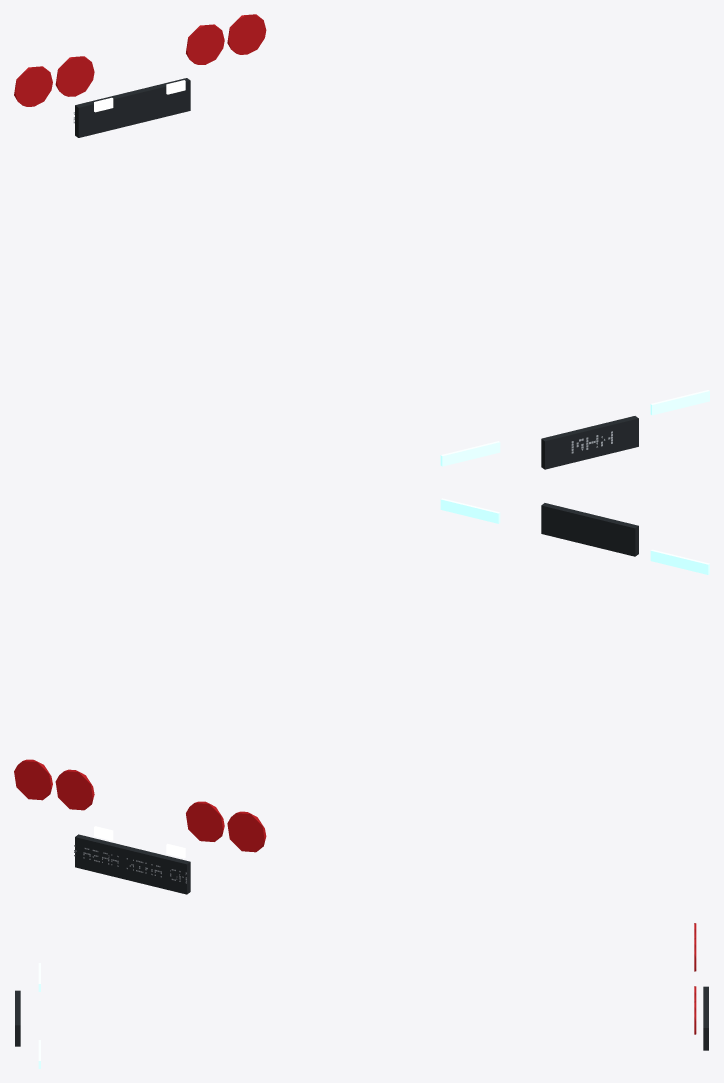
The model's file is mah-nightline-r34-lod1.glb.
The picture shows the model from 3 angles, top to bottom: view 1: azimuth 30°, elevation 25°; view 2: azimuth 150°, elevation 25°; view 3: azimuth 270°, elevation 25°; orthographic projection. The views are drawn at different scales.
Parts seen in each view (by area): view 1: VEH_BrandCover_Rear.001, VEH_BrandCover_Front.001, VEH_BrakeLamp_L_1.001, VEH_BrakeLamp_R_2.001, VEH_BrakeLamp_L_2.001, VEH_BrakeLamp_R_1.001, VEH_Headlamp_L.001, VEH_Headlamp_R.001; view 2: VEH_BrandCover_Rear.001, VEH_BrandCover_Front.001, VEH_BrakeLamp_R_2.001, VEH_BrakeLamp_L_1.001, VEH_BrakeLamp_R_1.001, VEH_BrakeLamp_L_2.001, VEH_Headlamp_R.001, VEH_Headlamp_L.001; view 3: VEH_BrandCover_Rear.001, VEH_BrandCover_Front.001.
Part boxes in pixels (<box>): VEH_BrandCover_Rear.001: <box>75,78,190,137</box>; VEH_BrandCover_Front.001: <box>541,416,638,469</box>; VEH_BrakeLamp_L_1.001: <box>55,56,94,96</box>; VEH_BrakeLamp_R_2.001: <box>227,14,266,54</box>; VEH_BrakeLamp_L_2.001: <box>14,66,52,106</box>; VEH_BrakeLamp_R_1.001: <box>186,24,224,64</box>; VEH_Headlamp_L.001: <box>440,441,500,466</box>; VEH_Headlamp_R.001: <box>650,390,709,415</box>; VEH_BrandCover_Rear.001: <box>75,834,190,894</box>; VEH_BrandCover_Front.001: <box>541,503,638,556</box>; VEH_BrakeLamp_R_2.001: <box>14,759,52,800</box>; VEH_BrakeLamp_L_1.001: <box>186,801,224,841</box>; VEH_BrakeLamp_R_1.001: <box>55,769,94,810</box>; VEH_BrakeLamp_L_2.001: <box>227,811,266,852</box>; VEH_Headlamp_R.001: <box>440,498,500,523</box>; VEH_Headlamp_L.001: <box>650,549,709,574</box>; VEH_BrandCover_Rear.001: <box>703,986,708,1050</box>; VEH_BrandCover_Front.001: <box>15,990,20,1046</box>.
Size of what is drawn, in the model's own units: 1.48 by 0.465 by 4.43.
